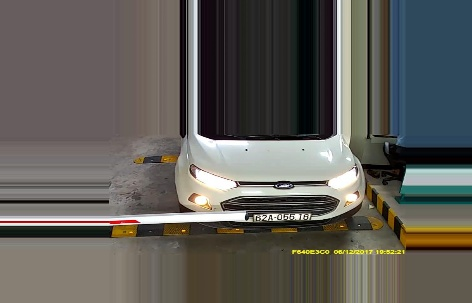plate: (253, 213, 311, 221)
